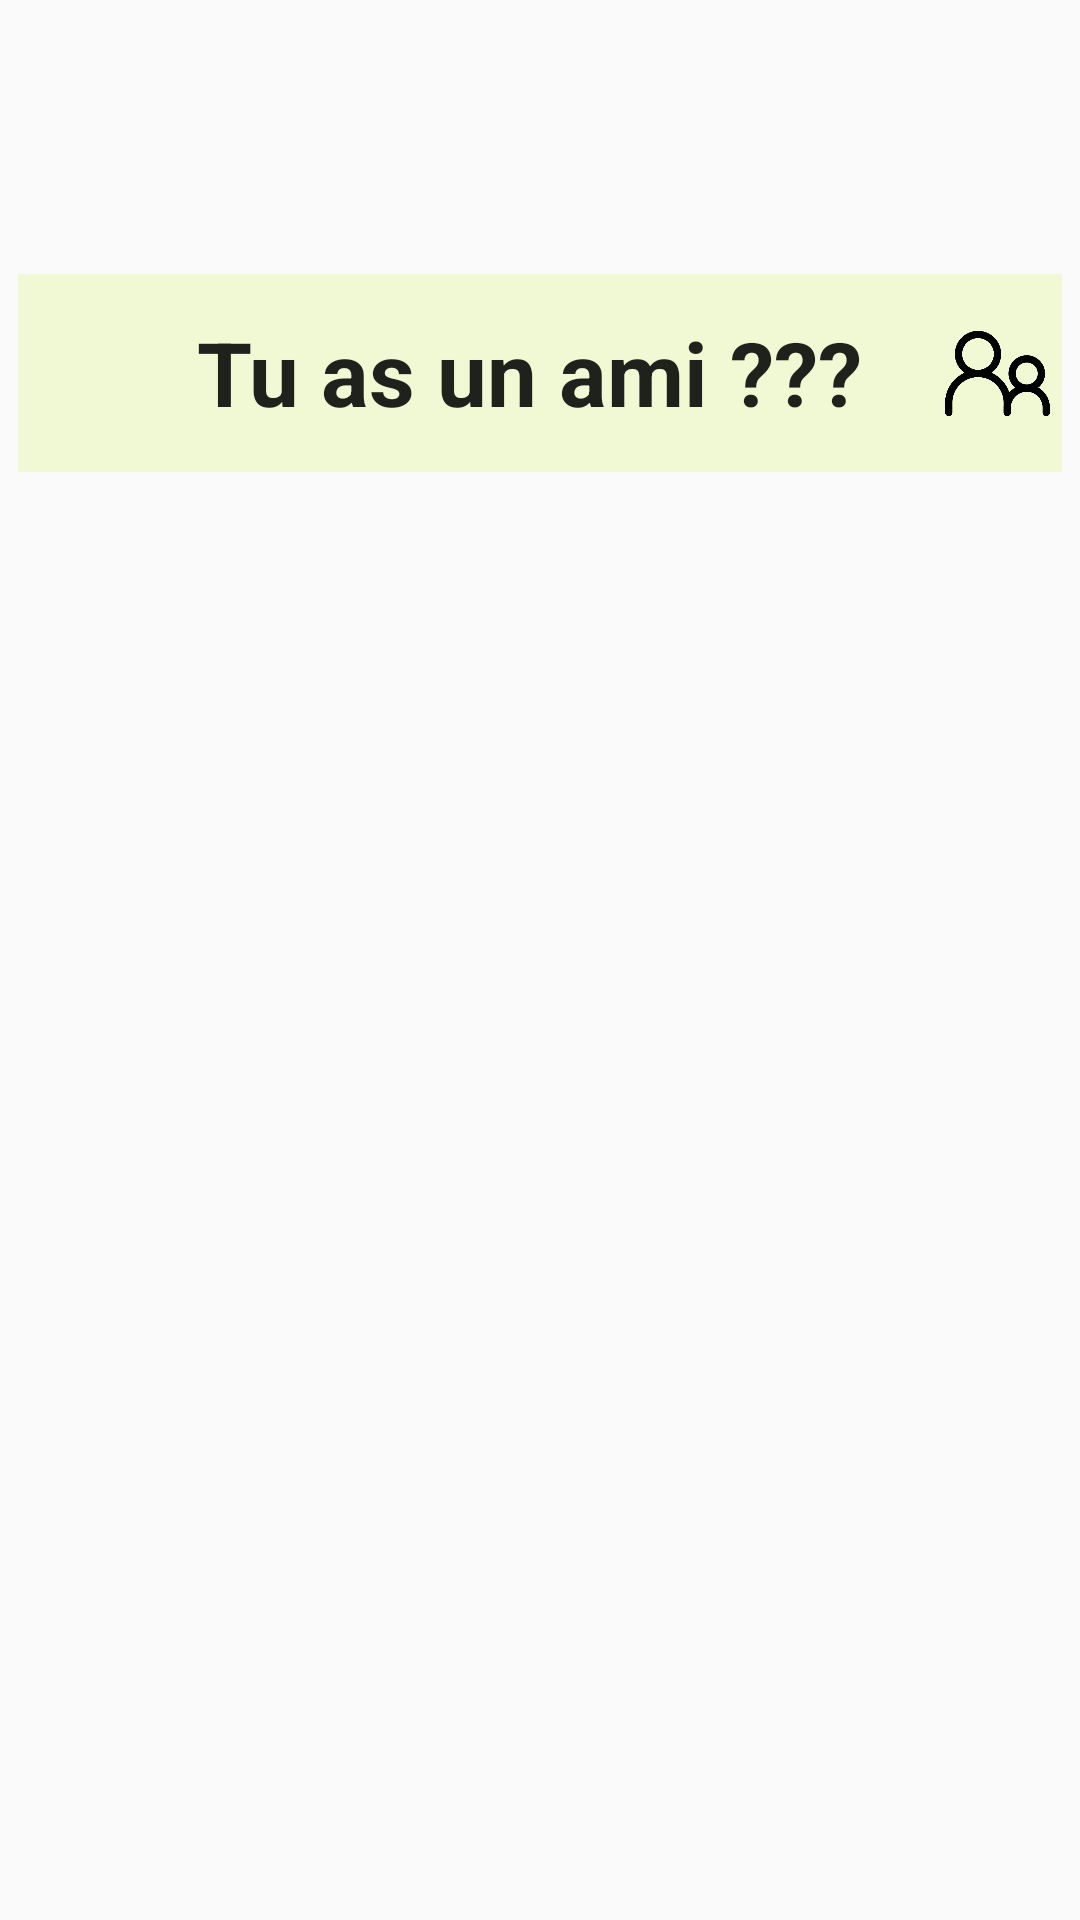

Where to tap for icons on this 1080 x 1920 app screen, as point (x, y):
amis: point (997, 373)
